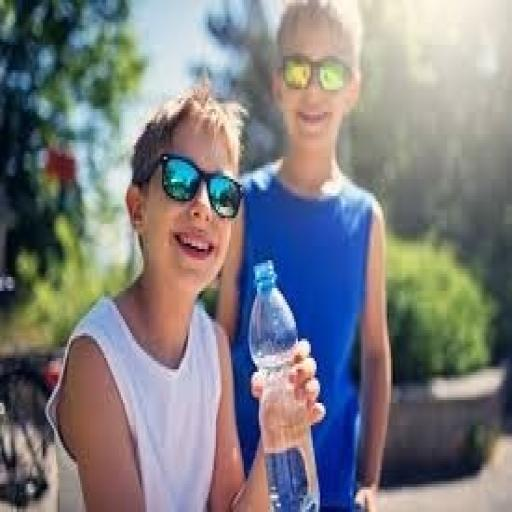drinking: (246, 258, 311, 510)
